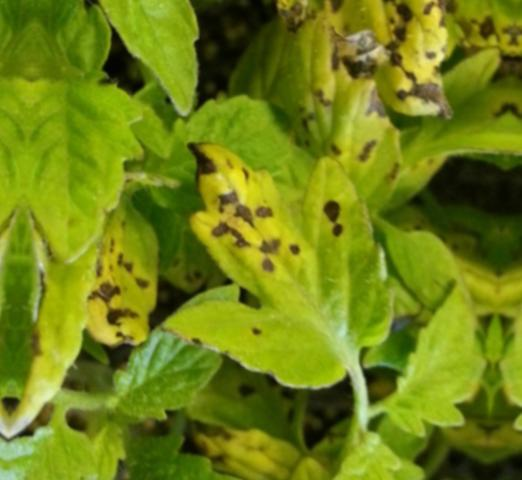Tomato leaf: (386, 269, 482, 460)
Tomato leaf bacterial spot: (162, 137, 406, 414), (79, 173, 172, 369)
